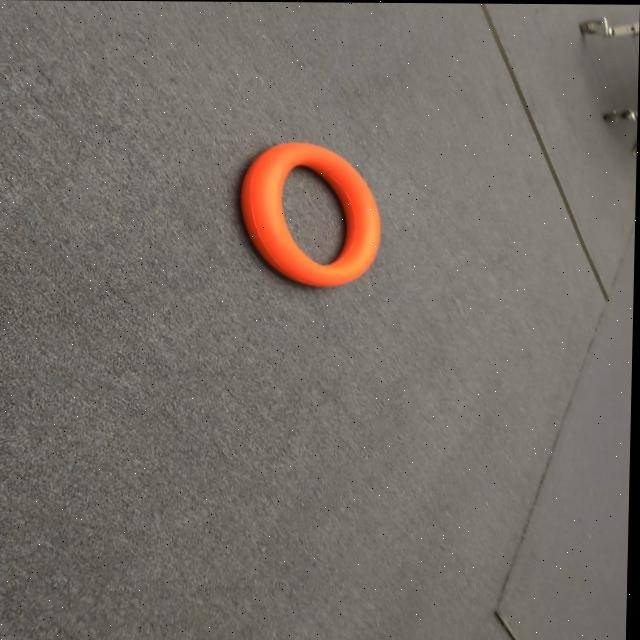note: (237, 142, 380, 284)
